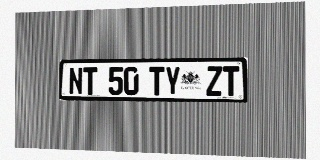0: (124, 67, 138, 95)
5: (109, 67, 123, 95)
N: (69, 67, 83, 95)
T: (223, 66, 239, 96), (149, 66, 164, 95), (83, 67, 97, 95)
Y: (165, 66, 180, 96)
Z: (206, 66, 222, 96)
